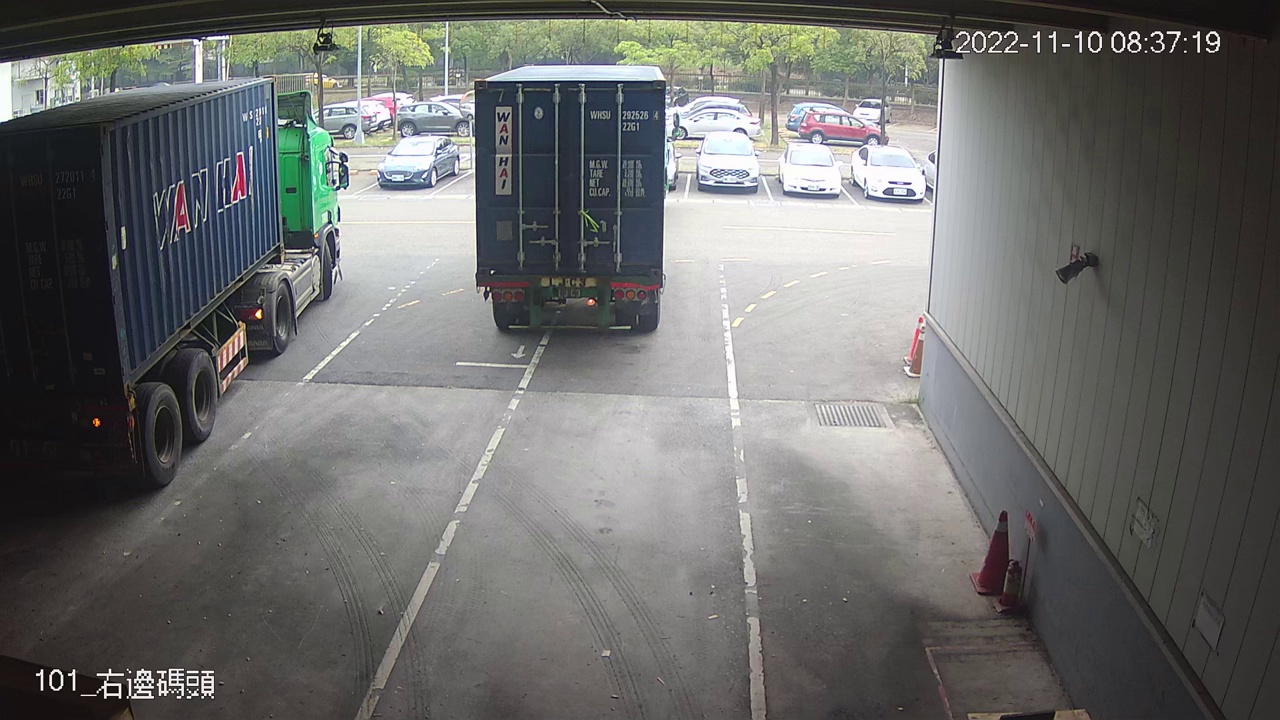container: (584, 105, 661, 135)
